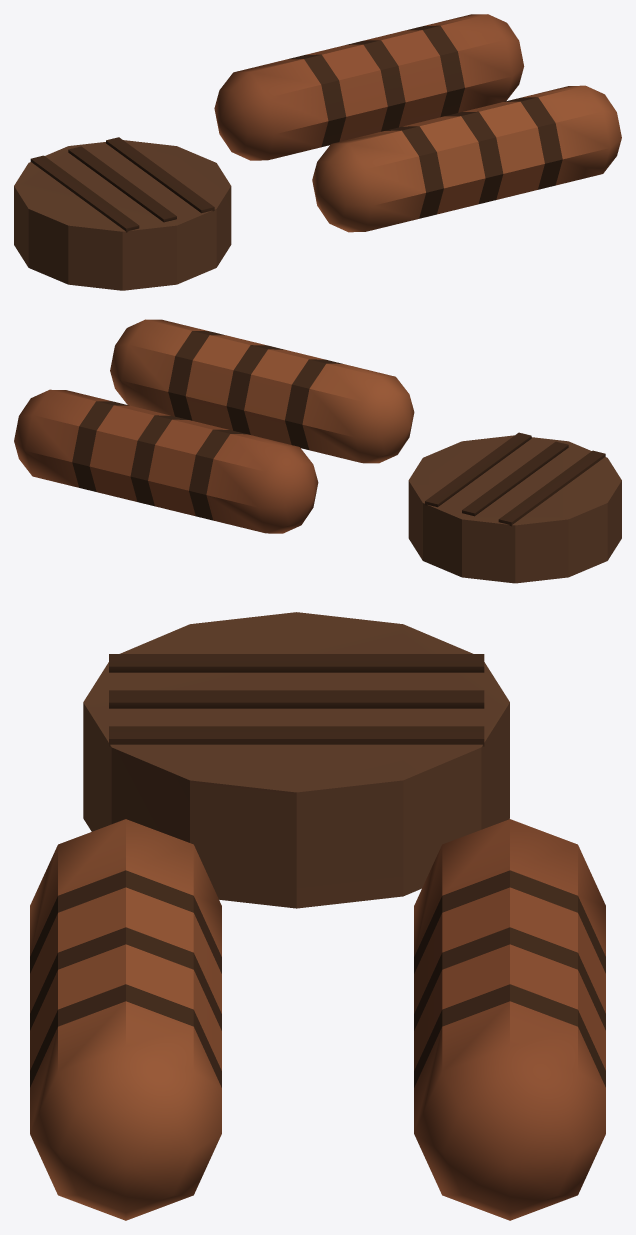
Rendered from grillFood.glb.
3 renders of one model, top to bottom at view 1: azimuth 30°, elevation 25°; view 2: azimuth 150°, elevation 25°; view 3: azimuth 270°, elevation 25°, orthographic. The views are drawn at different scales.
Visible parts, largest first — view 1: grillFood; view 2: grillFood; view 3: grillFood.
Part boxes in pixels (x1,y1,x2,y2): grillFood: [14, 14, 621, 290]; grillFood: [14, 319, 621, 583]; grillFood: [30, 612, 605, 1220].
Size of the model in its own units: 0.29 by 0.045 by 0.135.
